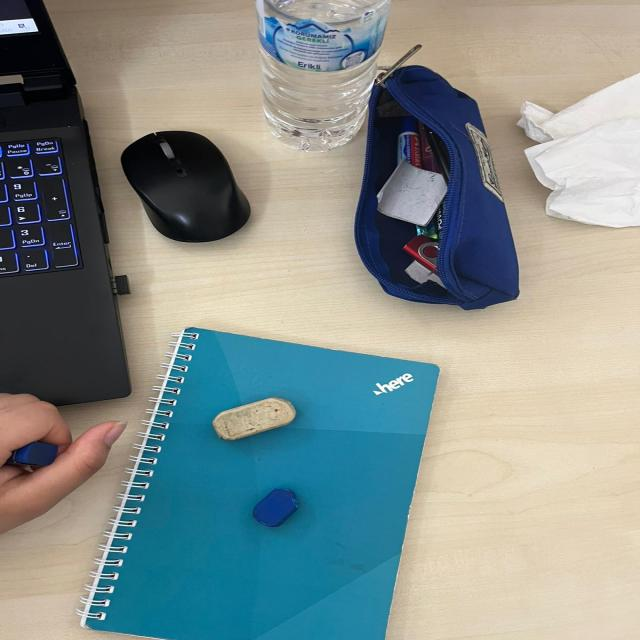eraser: (207, 397, 305, 448), (242, 482, 312, 533), (13, 437, 67, 477)
